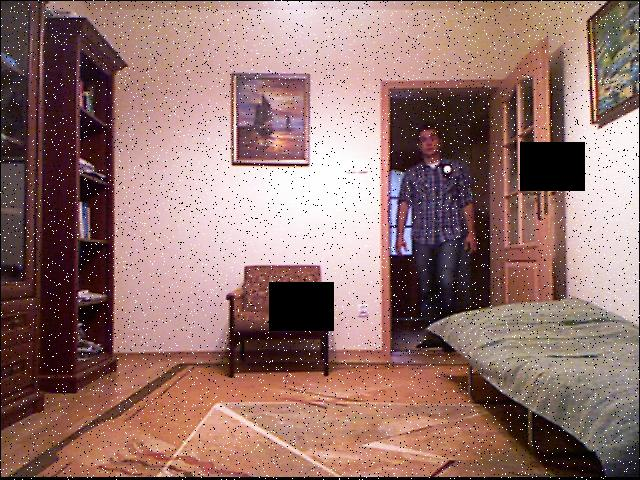walking: (394, 112, 488, 314)
